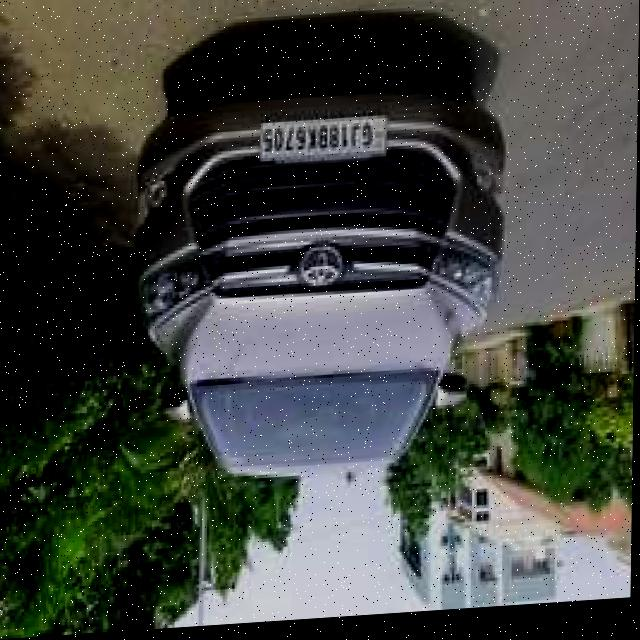plate: (259, 120, 387, 164)
